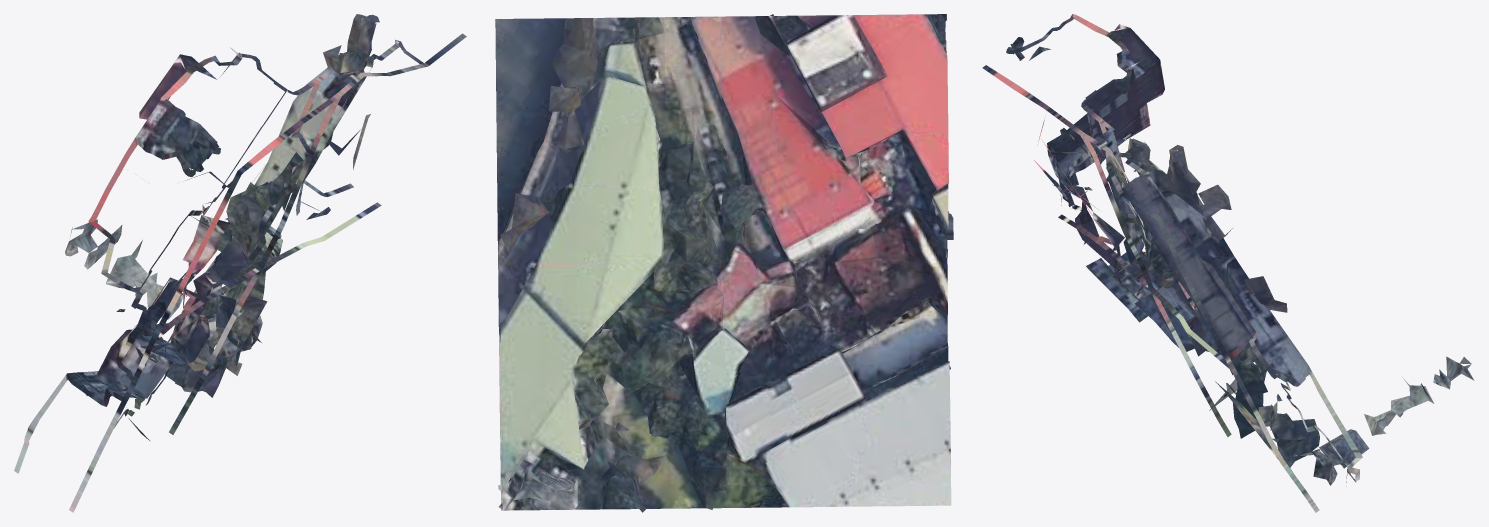
The picture shows the model from 3 angles, left to right: view 1: azimuth 30°, elevation 25°; view 2: azimuth 150°, elevation 25°; view 3: azimuth 270°, elevation 25°; orthographic projection. The views are drawn at different scales.
Bounding box in the file's own units: 84.1 × 80.08 × 90.77.
1 material, 1 textured.
